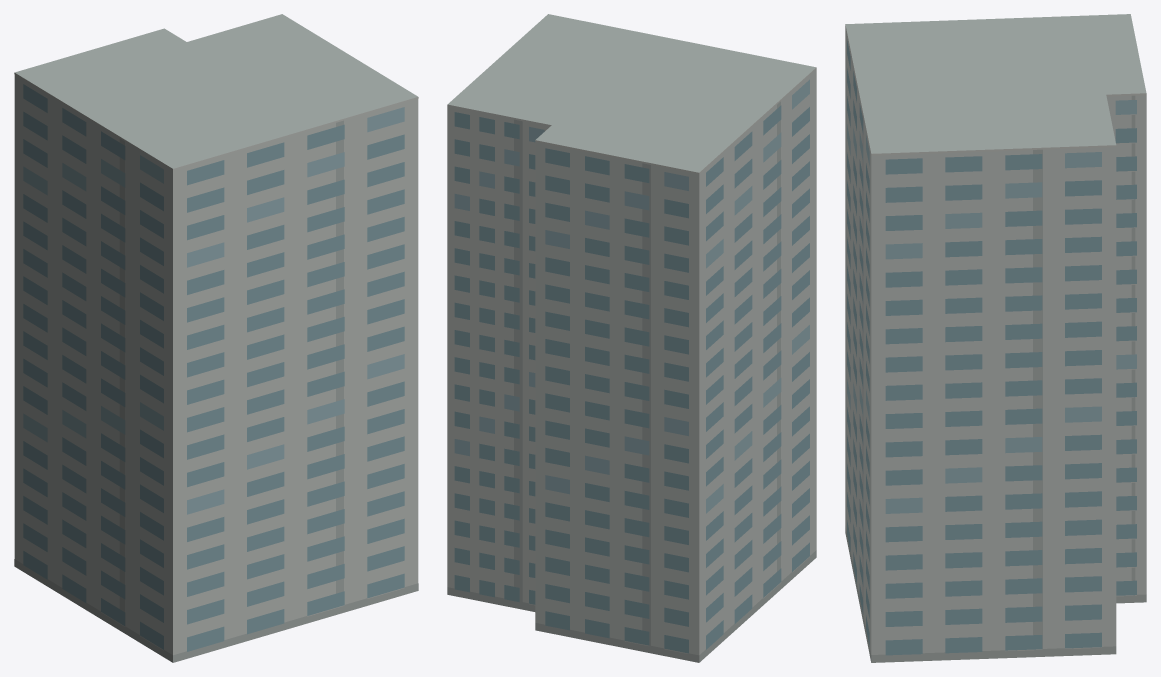
File: residential-9fdfcb8e-840a-42f8-acd6-02885162dd49.glb
3 views of the same model, side by side, from view 1: azimuth 30°, elevation 25°; view 2: azimuth 150°, elevation 25°; view 3: azimuth 270°, elevation 25° (orthographic). The views are drawn at different scales.
Visible parts, largest first — view 1: residential-9fdfcb8e-840a-42f8-acd6-02885162dd49.tmp; view 2: residential-9fdfcb8e-840a-42f8-acd6-02885162dd49.tmp; view 3: residential-9fdfcb8e-840a-42f8-acd6-02885162dd49.tmp.
Part boxes in pixels (box(x1,y1,x2,y2)): residential-9fdfcb8e-840a-42f8-acd6-02885162dd49.tmp: box(14, 14, 418, 662); residential-9fdfcb8e-840a-42f8-acd6-02885162dd49.tmp: box(447, 14, 816, 662); residential-9fdfcb8e-840a-42f8-acd6-02885162dd49.tmp: box(845, 14, 1146, 662).
Size of the model in its own units: 39.48 by 67 by 35.92.
